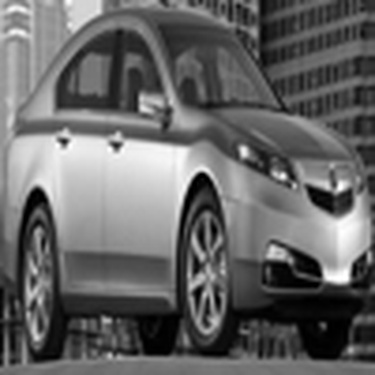car: (1, 4, 372, 365)
